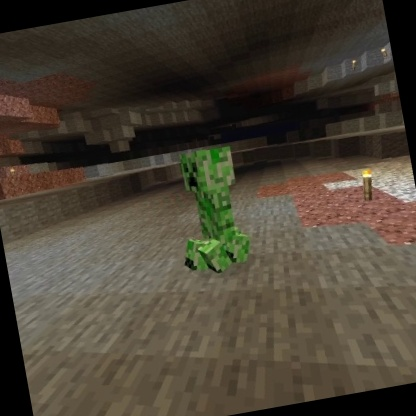creeper: (163, 141, 260, 284)
